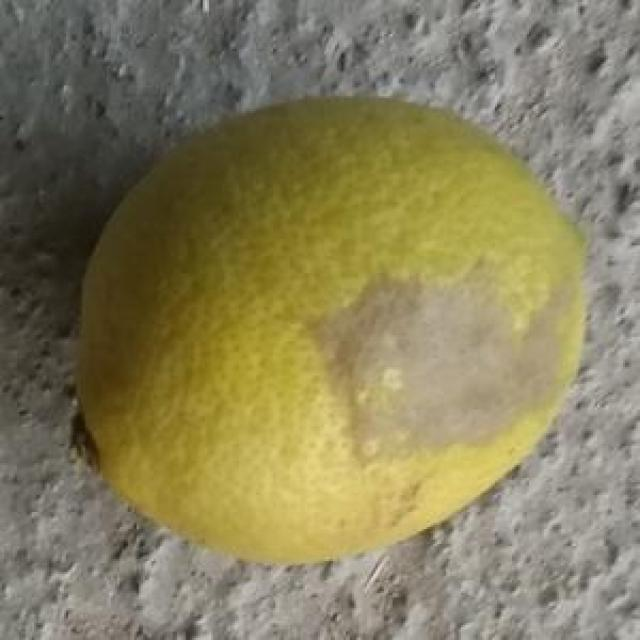lemon: (66, 99, 590, 566)
